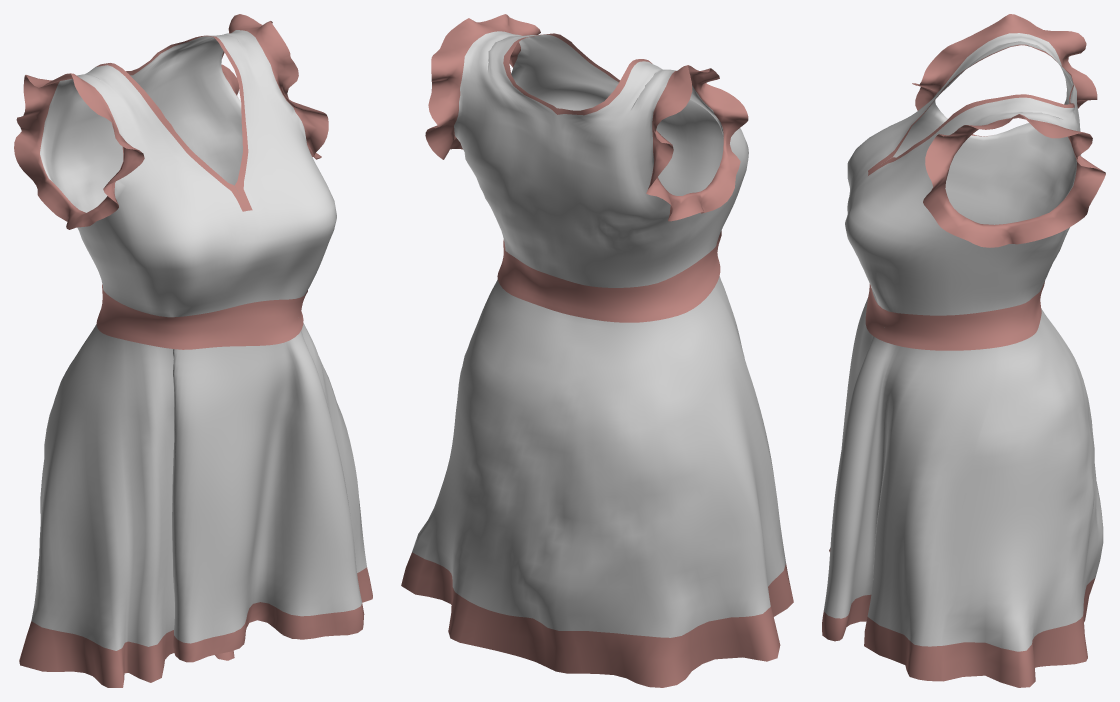
Rendered from dress.fbx.
The picture shows the model from 3 angles, left to right: view 1: azimuth 30°, elevation 25°; view 2: azimuth 150°, elevation 25°; view 3: azimuth 270°, elevation 25°; orthographic projection. The views are drawn at different scales.
Visible parts, largest first — view 1: dress; view 2: dress; view 3: dress.
Boxes of the visible parts, box(x1,y1,x2,y2) form: dress: box(14, 14, 372, 687); dress: box(401, 14, 793, 687); dress: box(822, 14, 1105, 687).
Bounding box in the file's own units: 0.5745 × 0.9427 × 0.4298.
